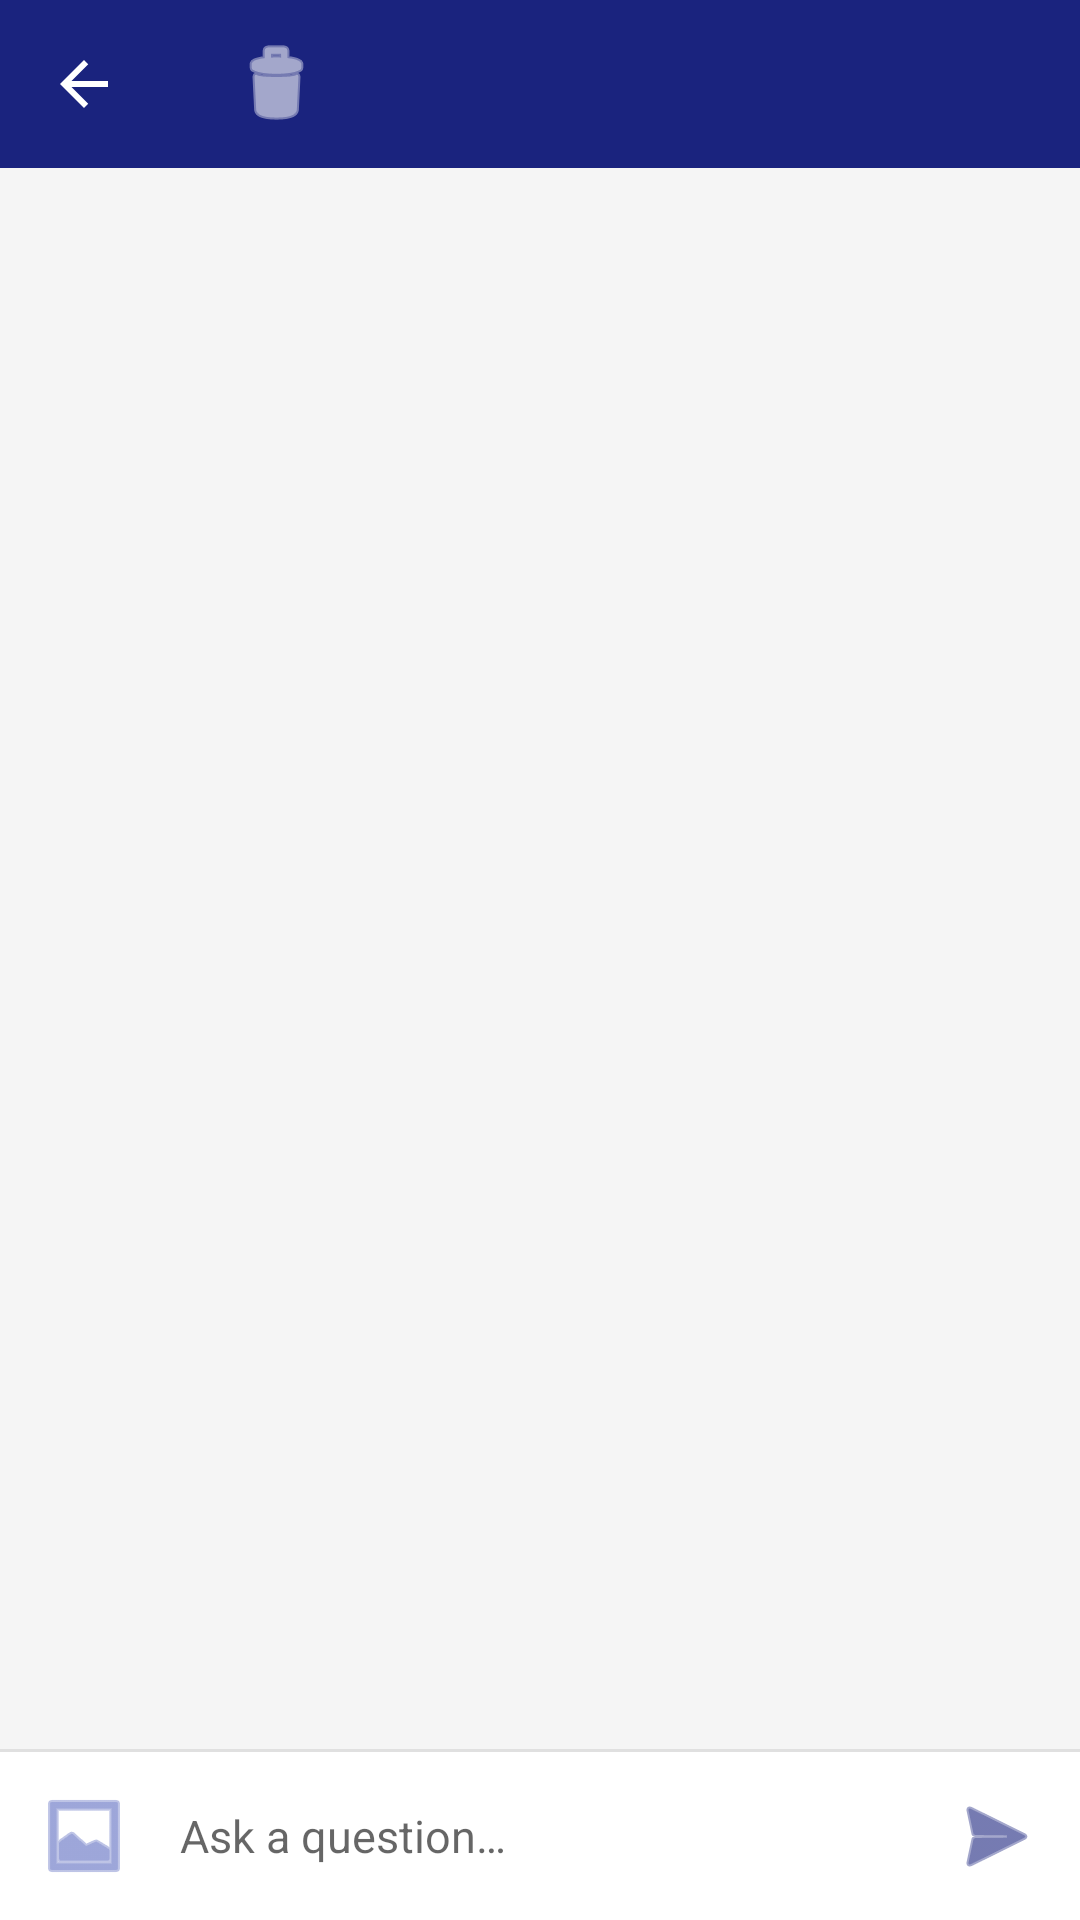

Icon bounding boxes for this 1080×1920 phone screenshot, format (x1, y1, x2, y2):
Attach image: (48, 1800, 120, 1872)
Clear chat: (249, 45, 304, 120)
Send: (966, 1806, 1028, 1867)
